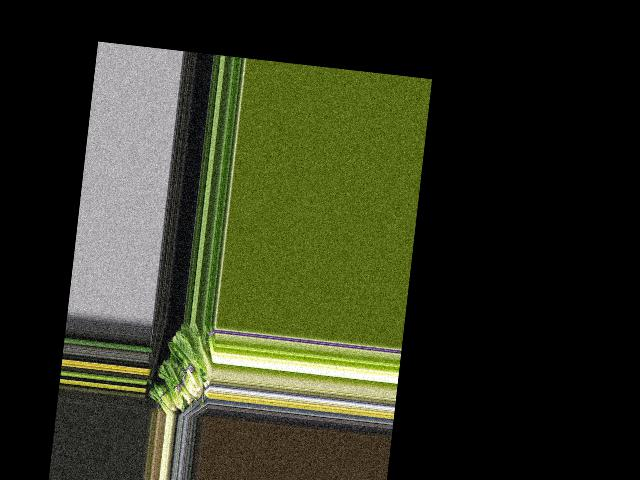lettuce: (170, 322, 214, 379)
